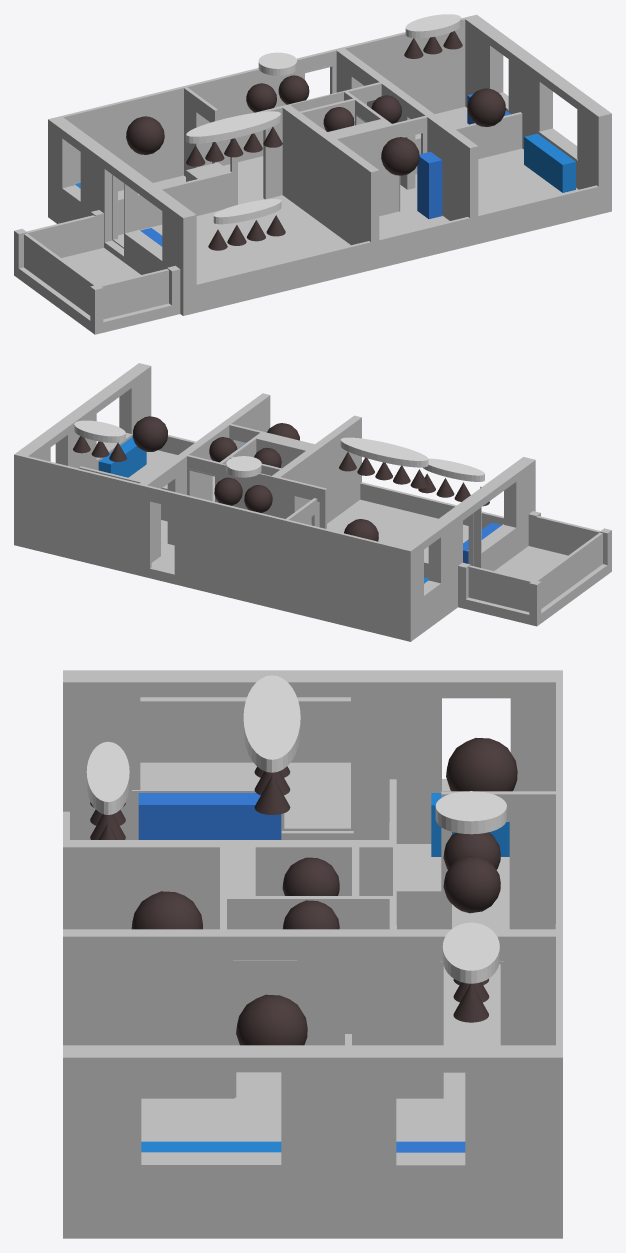
The model's file is home_simplified.gltf.
3 views of the same model, one above another, from view 1: azimuth 30°, elevation 25°; view 2: azimuth 150°, elevation 25°; view 3: azimuth 270°, elevation 25° (orthographic). The views are drawn at different scales.
Parts seen in each view (by area): view 1: Rooms, Ground, Office Heater, Livingroom Center Light Group, Bathroom Heater, Bathroom, Office Bulb, Kitchen, Livingroom Malms Light Group, Bedroom Light Group, Hallway Light Group, Hallway Light 2 Frame (+3 smaller); view 2: Rooms, Ground, Livingroom Center Light Group, Office Heater, Office Bulb, Bedroom Light Group, Livingroom Malms Light Group, Hallway Light Group, Hallway Light 1 Frame, Hallway Light 2 Frame, Kitchen, Corridor (+1 smaller); view 3: Rooms, Ground, Livingroom Heater, Livingroom Center Light Group, Kitchen, Office Bulb, Bedroom Light Group, Hallway Light Group, Livingroom Malms Light Group, Hallway Light 2 Frame, Bathroom, Toilet Bulb (+7 smaller).
Boxes of the visible parts, x1,y1,x2,y2 form: Rooms: [14, 14, 611, 324]; Ground: [14, 106, 611, 334]; Office Heater: [524, 133, 575, 192]; Livingroom Center Light Group: [186, 111, 280, 143]; Bathroom Heater: [417, 151, 442, 219]; Bathroom: [381, 137, 419, 175]; Office Bulb: [467, 88, 505, 126]; Kitchen: [126, 116, 164, 154]; Livingroom Malms Light Group: [213, 199, 281, 224]; Bedroom Light Group: [405, 14, 461, 38]; Hallway Light Group: [258, 52, 296, 75]; Hallway Light 2 Frame: [278, 75, 309, 104]; Rooms: [14, 363, 611, 632]; Ground: [14, 450, 611, 641]; Livingroom Center Light Group: [340, 437, 428, 467]; Office Heater: [98, 437, 146, 477]; Office Bulb: [132, 416, 167, 451]; Bedroom Light Group: [74, 420, 125, 442]; Livingroom Malms Light Group: [422, 458, 484, 481]; Hallway Light Group: [226, 456, 261, 477]; Hallway Light 1 Frame: [244, 485, 272, 512]; Hallway Light 2 Frame: [214, 477, 242, 505]; Kitchen: [344, 519, 378, 541]; Corridor: [209, 437, 237, 462]; Rooms: [63, 670, 562, 1219]; Ground: [63, 762, 562, 1238]; Livingroom Heater: [138, 793, 281, 839]; Livingroom Center Light Group: [243, 675, 300, 772]; Kitchen: [446, 738, 517, 791]; Office Bulb: [236, 994, 307, 1045]; Bedroom Light Group: [442, 922, 499, 983]; Hallway Light Group: [435, 791, 506, 834]; Livingroom Malms Light Group: [86, 741, 129, 814]; Hallway Light 2 Frame: [443, 856, 500, 913]; Bathroom: [131, 891, 202, 929]; Toilet Bulb: [282, 857, 339, 895].
Bounding box in the file's own units: 15.38 × 3.56 × 7.01.
